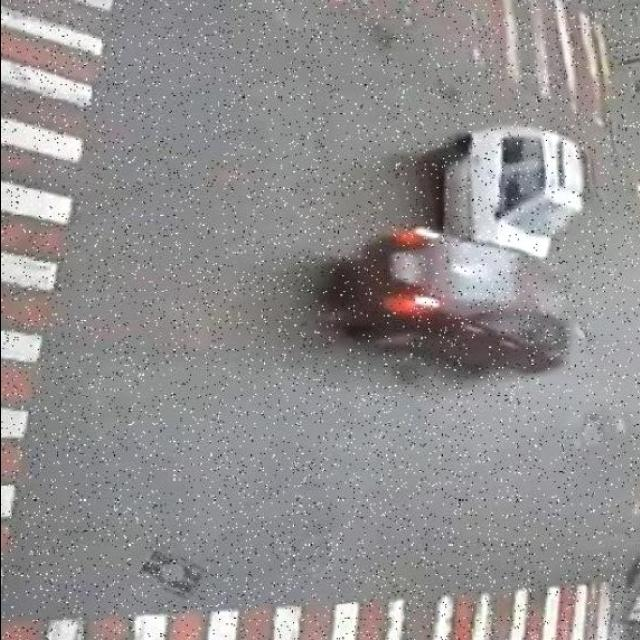accident: (328, 95, 604, 413)
